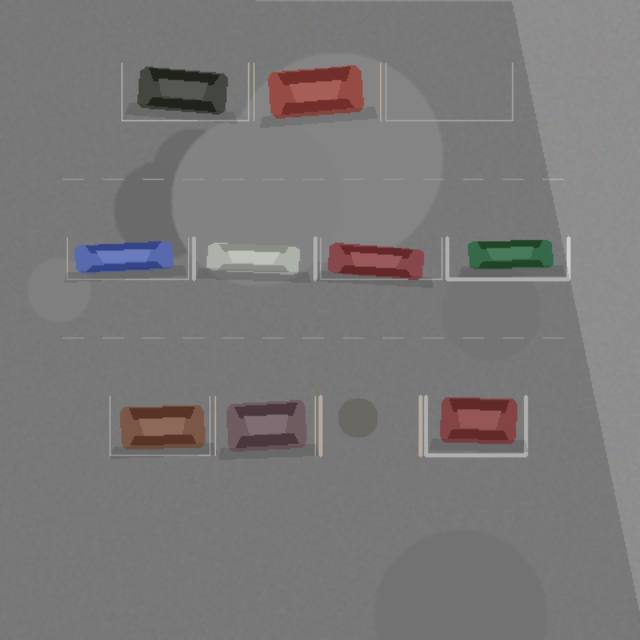space-empty: (385, 63, 512, 120), (320, 396, 420, 455)
space-occupied: (121, 63, 248, 120), (253, 63, 380, 120), (109, 396, 209, 455), (215, 396, 315, 455), (425, 396, 525, 455), (193, 237, 315, 279), (67, 237, 188, 279), (320, 237, 441, 279), (447, 237, 568, 279)
